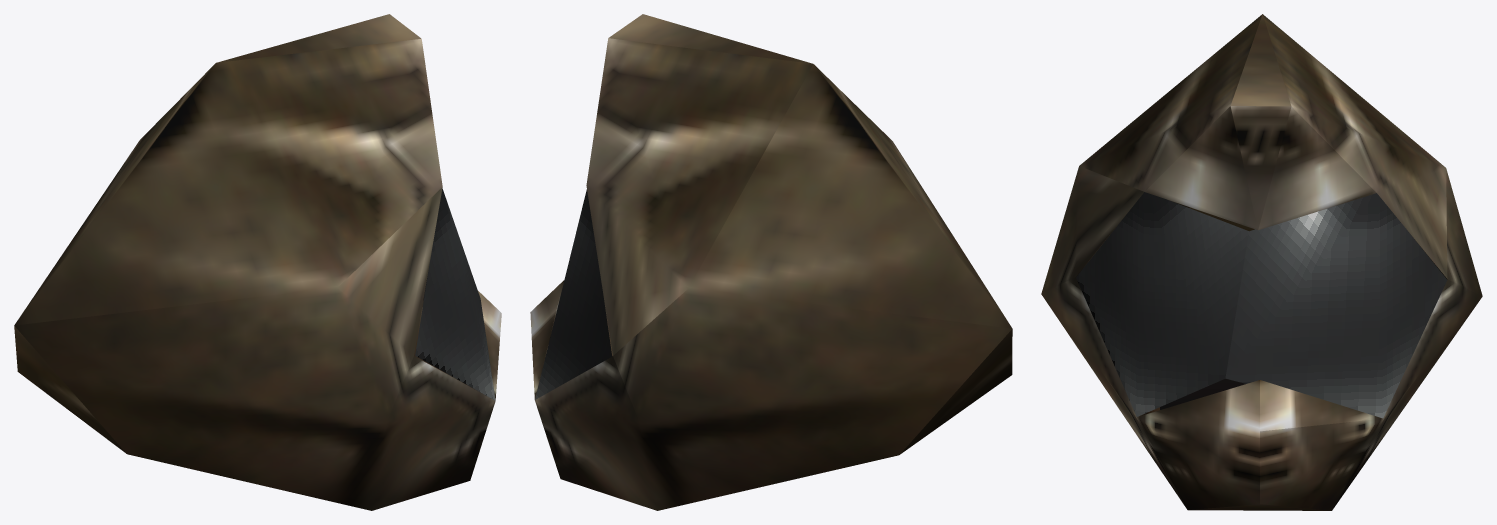
File: head_2.obj
3 renders of one model, left to right at view 1: azimuth 30°, elevation 25°; view 2: azimuth 150°, elevation 25°; view 3: azimuth 270°, elevation 25°, orthographic. The views are drawn at different scales.
Parts seen in each view (by area): view 1: h_helmet_2, h_visor_2; view 2: h_helmet_2, h_visor_2; view 3: h_helmet_2, h_visor_2.
Part boxes in pixels (x1,y1,x2,y2): h_helmet_2: [14, 14, 501, 510]; h_visor_2: [415, 188, 495, 400]; h_helmet_2: [530, 14, 1012, 510]; h_visor_2: [535, 189, 612, 399]; h_helmet_2: [1041, 14, 1482, 510]; h_visor_2: [1076, 192, 1447, 418].
Bounding box in the file's own units: 12.44 × 10.78 × 10.75.
Materials: 2 (2 with a texture image).
